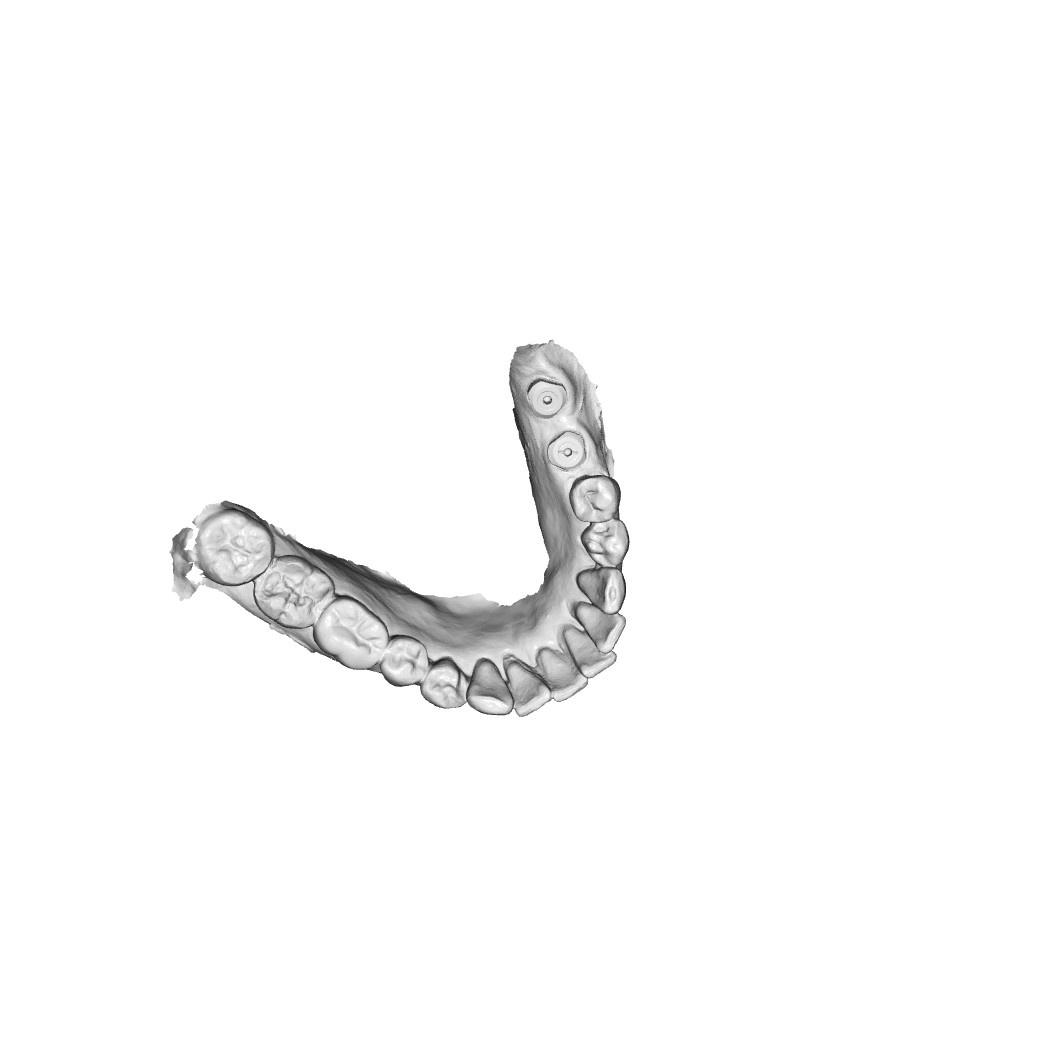canine: (469, 657, 517, 716), (577, 566, 621, 615)
implant: (525, 376, 568, 419)
implant_minus: (548, 430, 589, 474)
incisor: (562, 625, 616, 677), (504, 657, 549, 718), (537, 649, 587, 700), (576, 602, 629, 649)
molar: (255, 555, 333, 632), (312, 604, 384, 675), (197, 516, 271, 582)
premolar: (379, 637, 430, 686), (571, 475, 620, 525), (579, 519, 630, 567), (421, 660, 467, 711)
